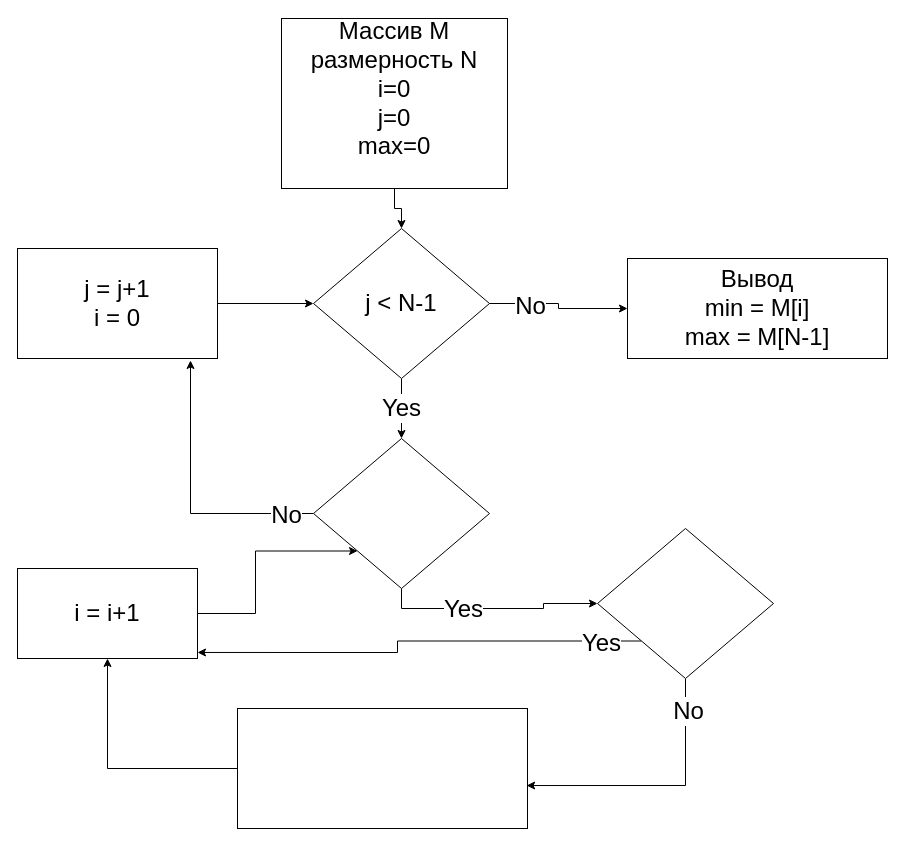
Some shapes in this 905 by 846 pixel diagram are drawn without their labels. The centre of each missing label's shape, as x and y in pixels:
i < N-1: the point at 401,513
M[i] < M[i+1]: the point at 685,603
max = M[i] M[i] = M[i+1] M[i+1] = max: the point at 382,768
